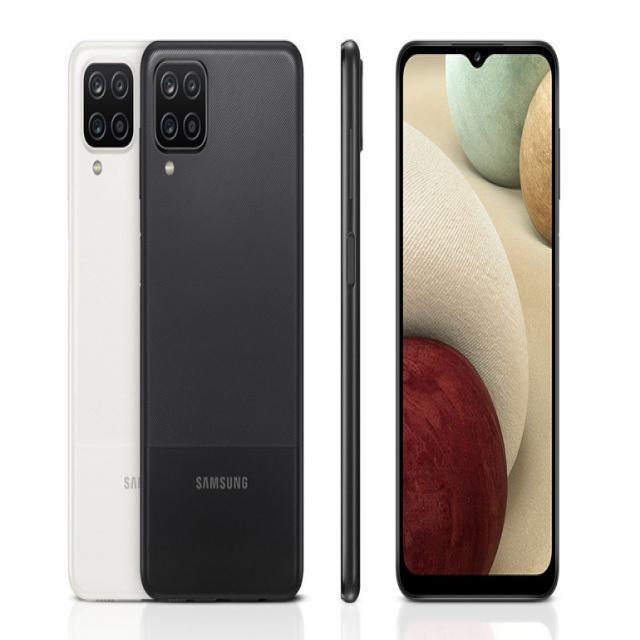phone: (140, 40, 306, 602)
